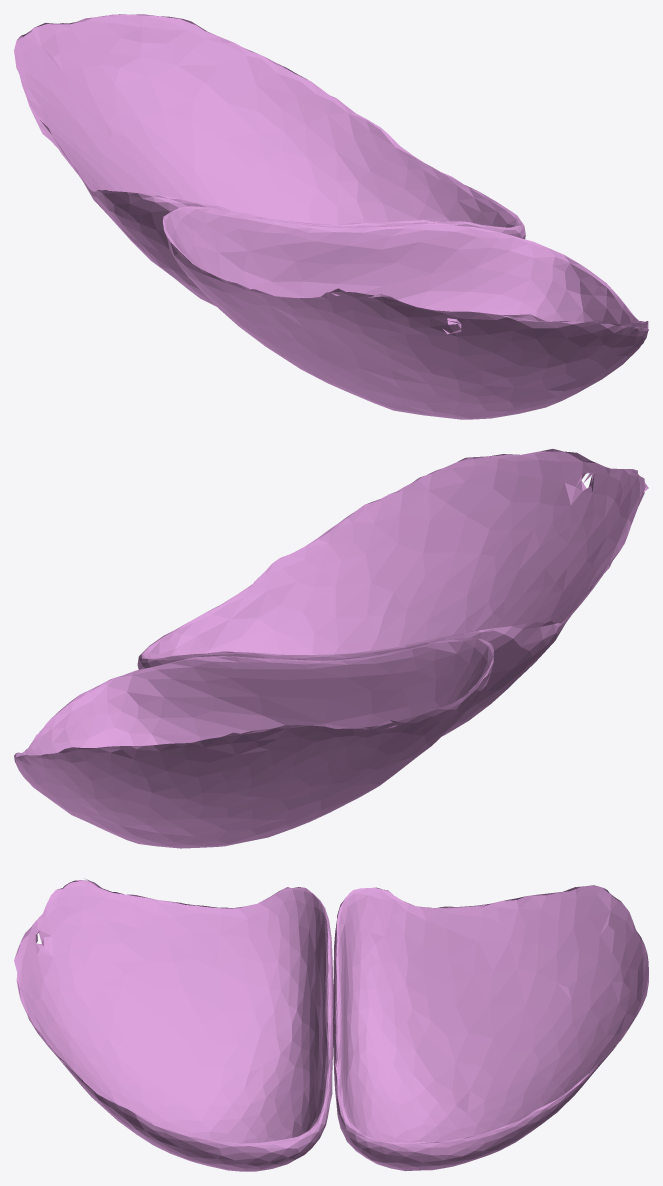
The picture shows the model from 3 angles, top to bottom: view 1: azimuth 30°, elevation 25°; view 2: azimuth 150°, elevation 25°; view 3: azimuth 270°, elevation 25°; orthographic projection. The views are drawn at different scales.
Parts seen in each view (by area): view 1: 834.obj; view 2: 834.obj; view 3: 834.obj.
Part boxes in pixels (x1=…): 834.obj: x1=14, y1=14, x2=648, y2=419; 834.obj: x1=14, y1=449, x2=648, y2=848; 834.obj: x1=14, y1=878, x2=648, y2=1171.
Bounding box in the file's own units: 1939 × 1072 × 3297.
